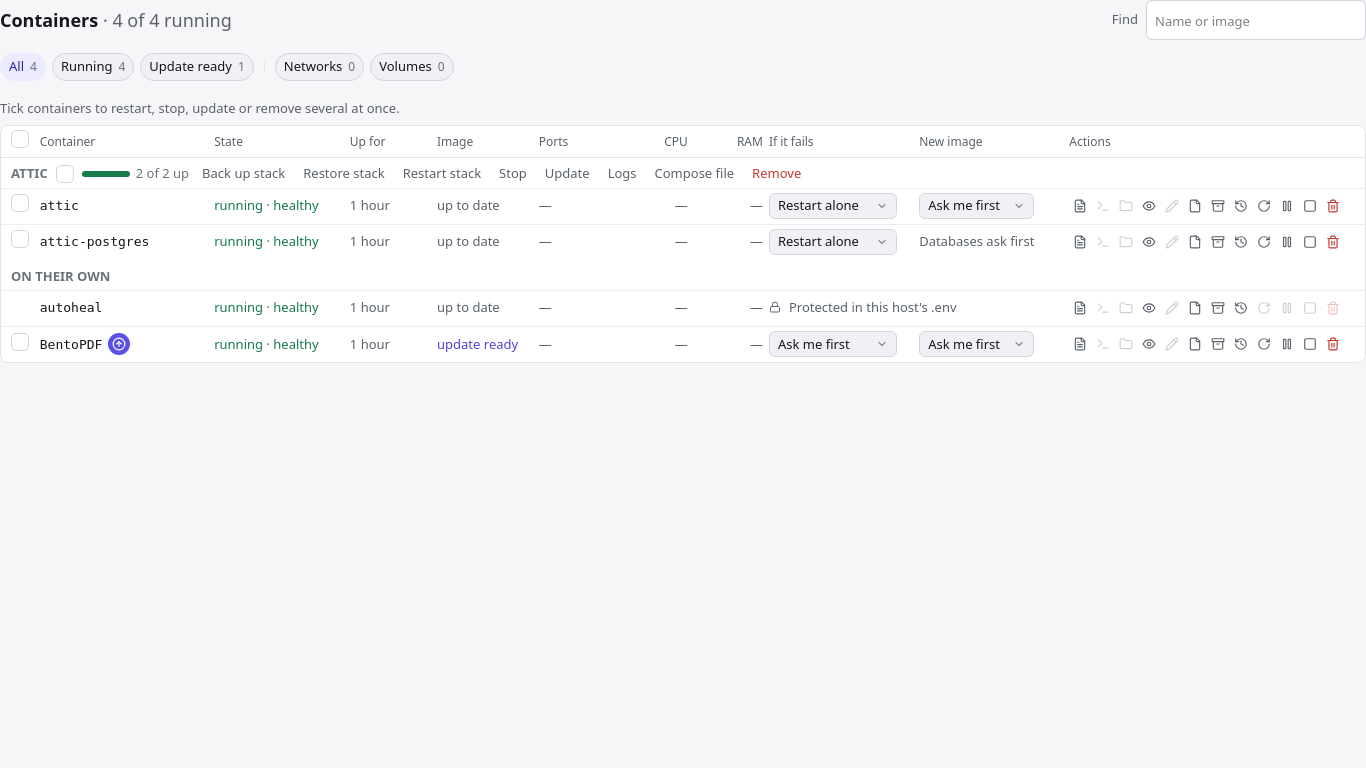
a row's update icon › keeps Update off while the host checks, and says why it refuses
Click the button named "Update BentoPDF": (119, 344) 108,333 -> 130,355
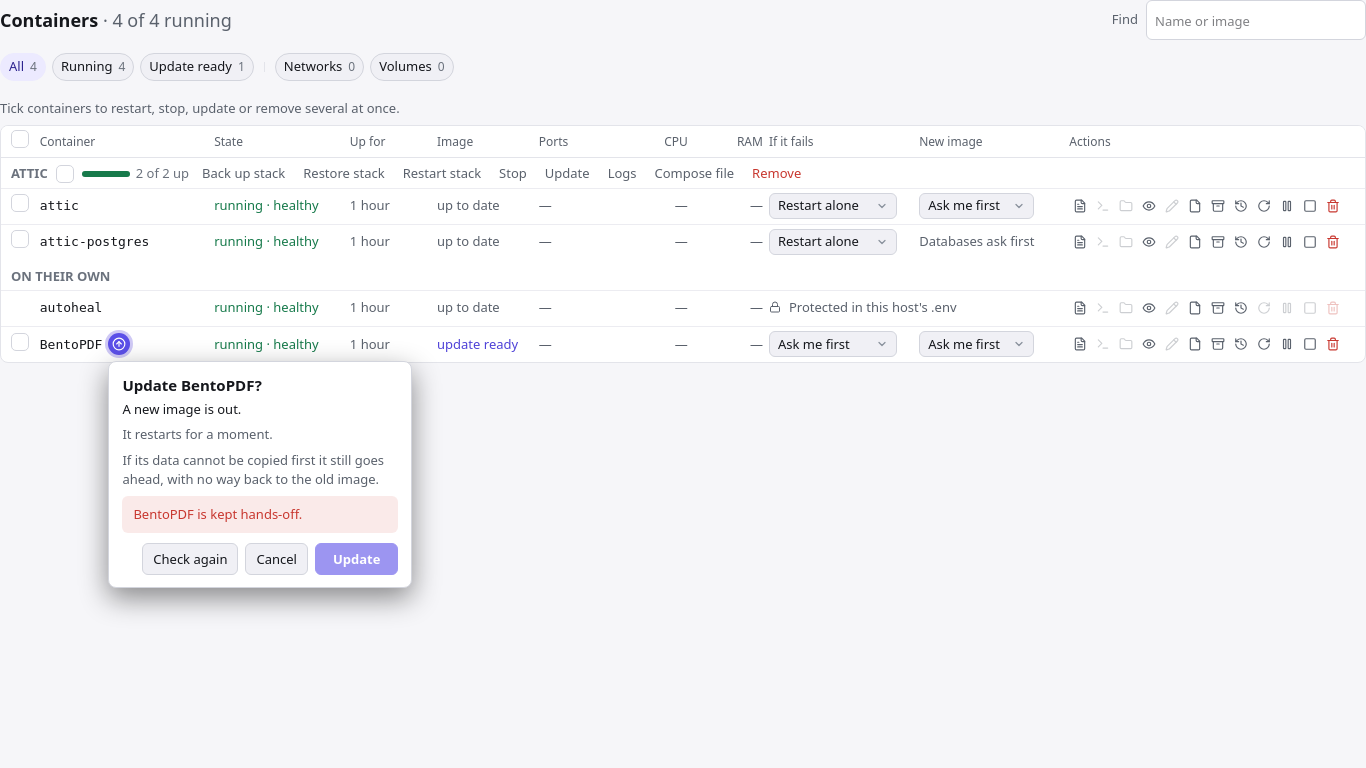
Expected: the text "BentoPDF is kept hands-off." is shown, 122,496 -> 398,533
Expected: the button "Update" below "BentoPDF is kept hands-off." is disabled, 315,543 -> 398,575
